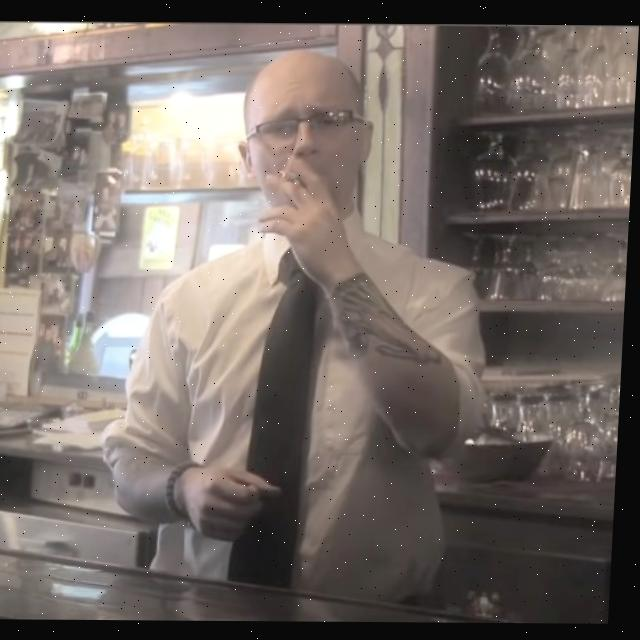cigarette: (278, 169, 302, 179)
